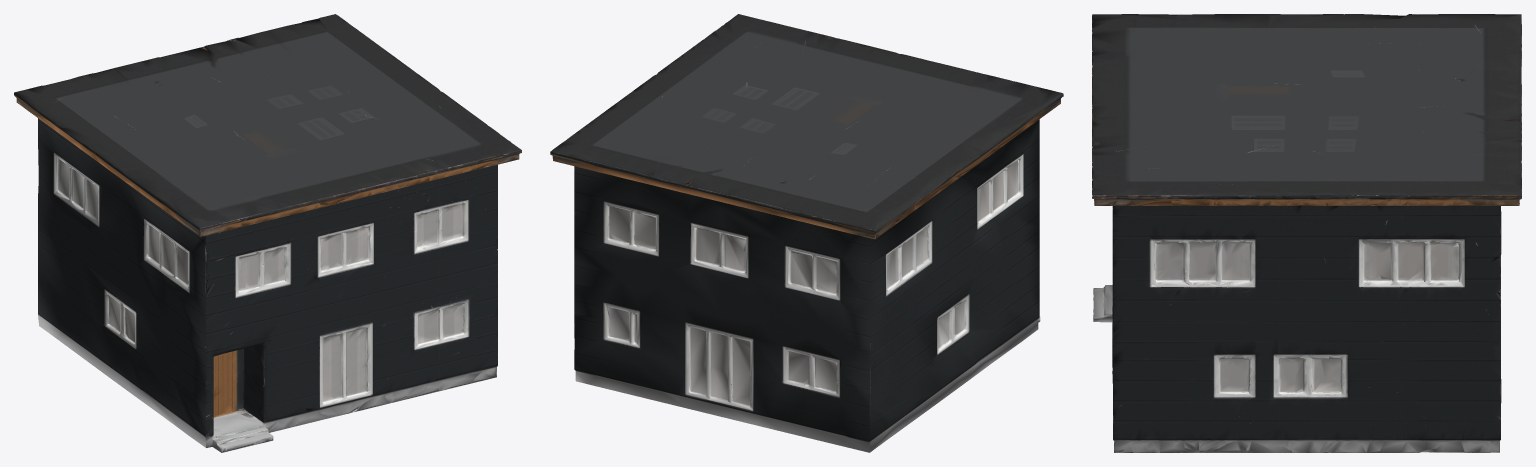
File: yamato-house.glb
3 renders of one model, left to right at view 1: azimuth 30°, elevation 25°; view 2: azimuth 150°, elevation 25°; view 3: azimuth 270°, elevation 25°, orthographic. The views are drawn at different scales.
Parts seen in each view (by area): view 1: Mesh_0; view 2: Mesh_0; view 3: Mesh_0.
Boxes of the visible parts, x1,y1,x2,y2 form: Mesh_0: (14, 14, 521, 452); Mesh_0: (550, 14, 1063, 452); Mesh_0: (1092, 14, 1521, 452).
Bounding box in the file's own units: 1.91 × 1.31 × 1.91.
Materials: 1 (1 with a texture image).
